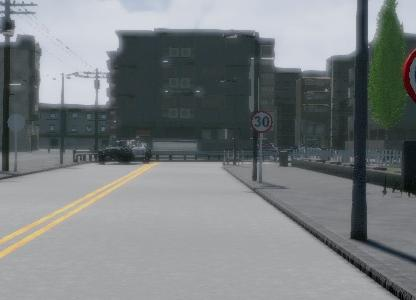Speed_60: (399, 37, 416, 112)
